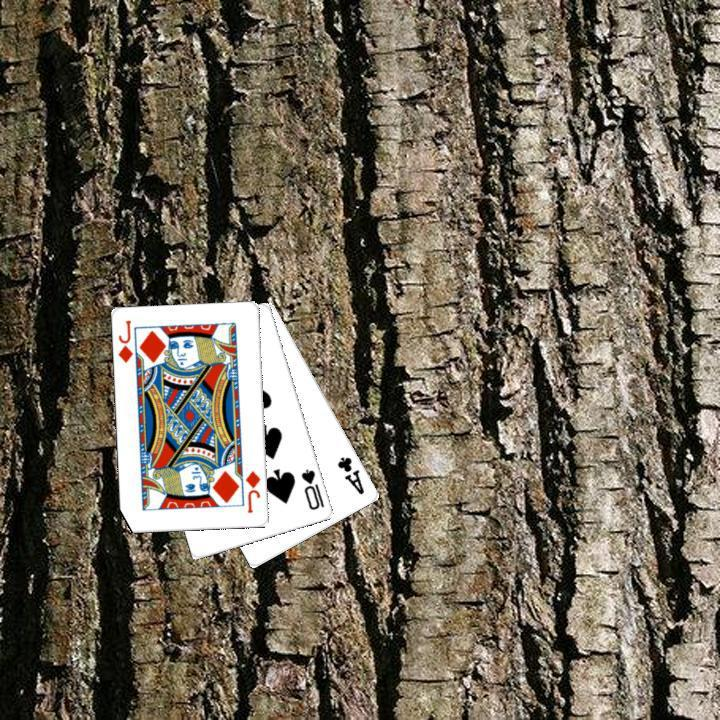10: (297, 465, 327, 512)
A: (333, 452, 367, 497)
J: (242, 466, 263, 515), (114, 316, 135, 365)
